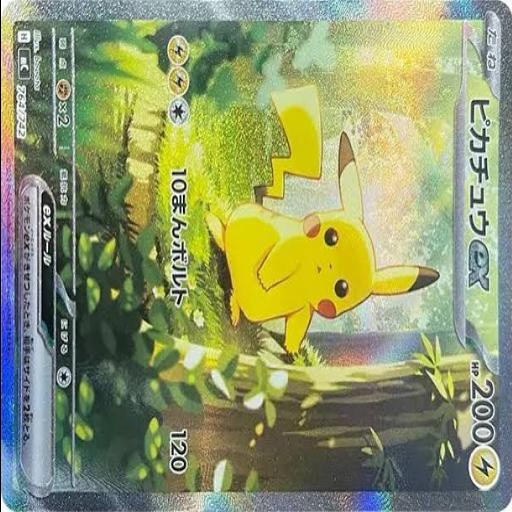Pikachu: (203, 82, 439, 356)
